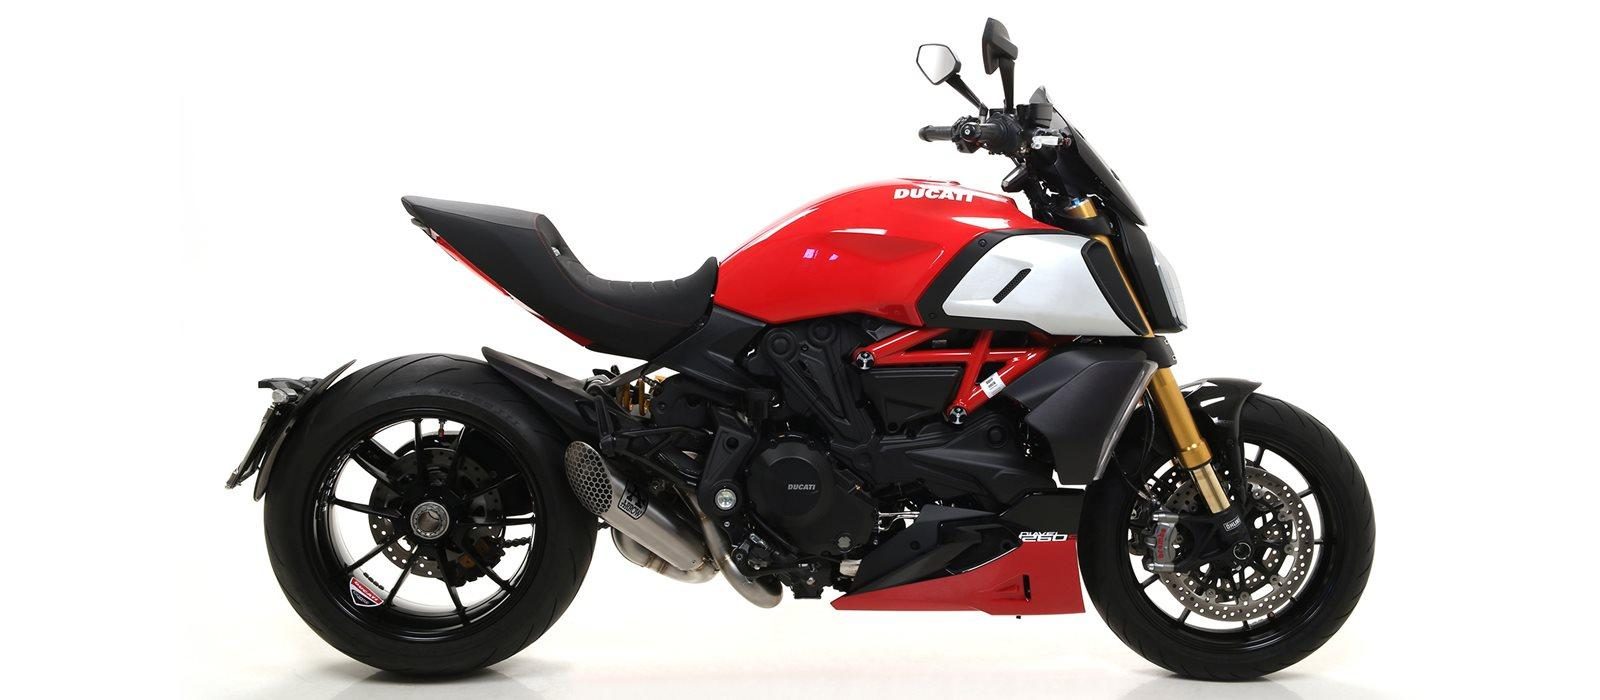engine-chasis: (731, 312, 1086, 616), (611, 376, 667, 418)
exhaust: (564, 441, 784, 608)
frontside: (853, 85, 1264, 573)
handlebar: (915, 16, 1113, 229)
motorbike: (226, 16, 1376, 679)
rearside: (411, 218, 771, 544), (223, 358, 357, 502)
seat: (401, 195, 718, 351)
tank: (712, 179, 1063, 328)
wheel: (263, 354, 598, 677), (1078, 393, 1376, 681), (1111, 389, 1161, 506), (598, 521, 611, 531)
